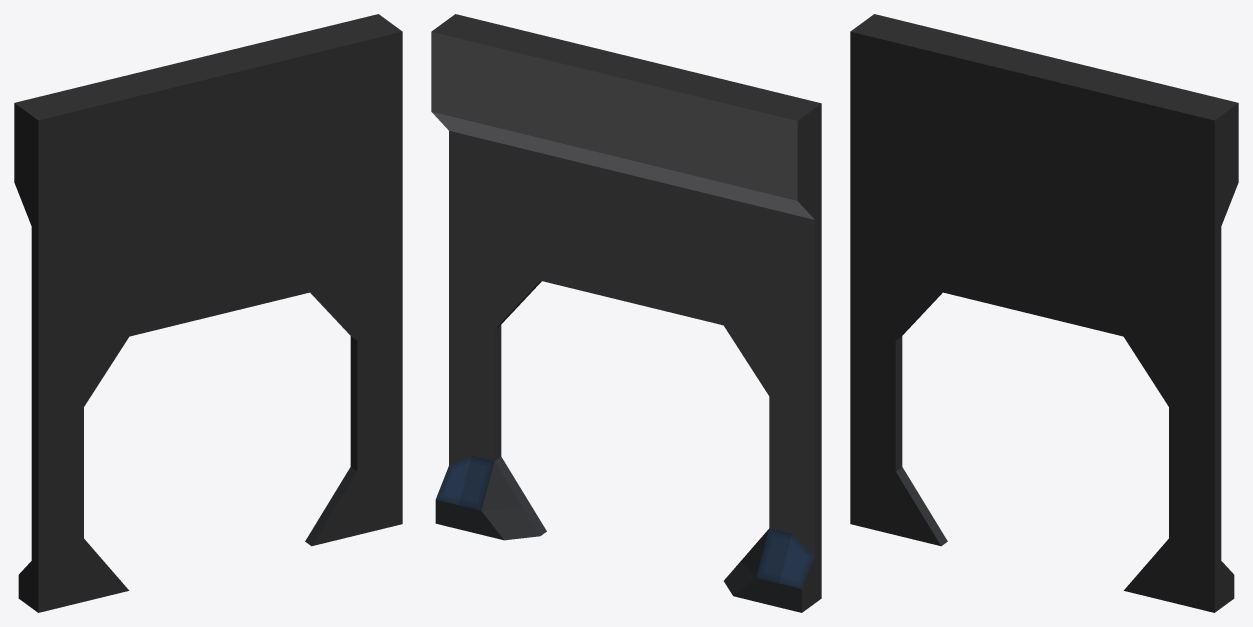
Rendered from CalShipCargoWallDoorFrameLarge.gltf.
3 views of the same model, side by side, from view 1: azimuth 30°, elevation 25°; view 2: azimuth 150°, elevation 25°; view 3: azimuth 330°, elevation 25° (orthographic).
Parts seen in each view (by area): view 1: mesh; view 2: mesh; view 3: mesh.
Part boxes in pixels (left/top/right/bottom): mesh: left=14, top=14, right=402, bottom=612; mesh: left=431, top=14, right=821, bottom=612; mesh: left=850, top=14, right=1238, bottom=612.
Size of the model in its own units: 3 by 3.88 by 0.3438.
1 material, 1 textured.
